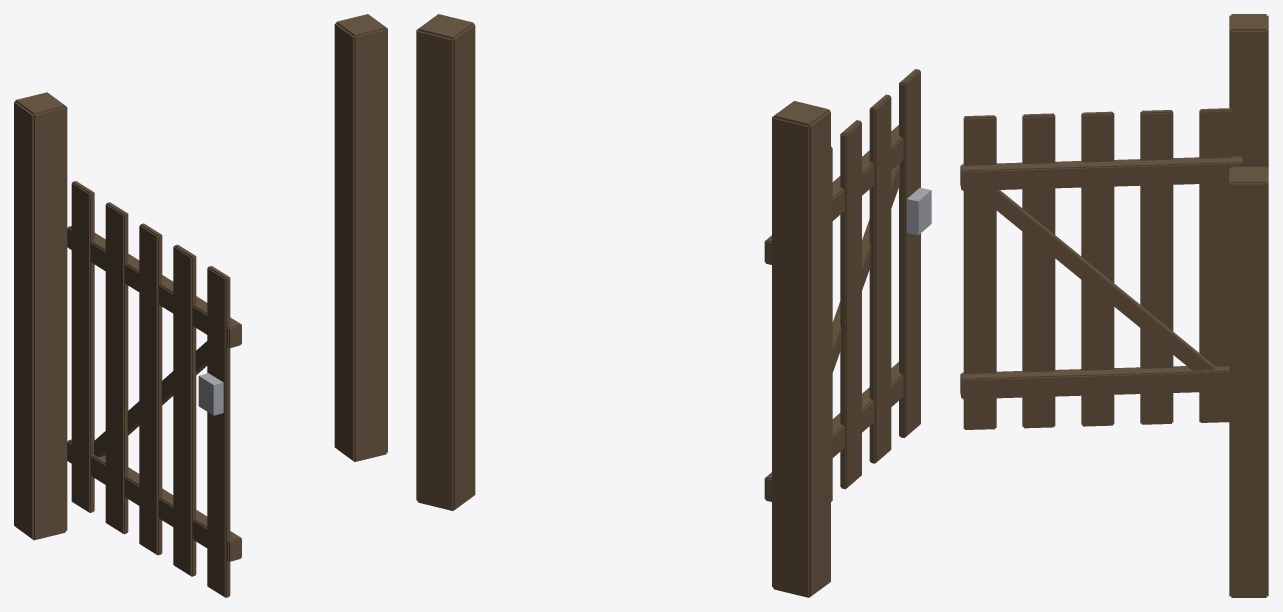
The model's file is gate_picket_open.glb.
3 views of the same model, side by side, from view 1: azimuth 30°, elevation 25°; view 2: azimuth 150°, elevation 25°; view 3: azimuth 270°, elevation 25° (orthographic). The views are drawn at different scales.
Visible parts, largest first — view 1: leaf_mesh, post, post.001; view 2: post.001, post, leaf_mesh; view 3: leaf_mesh, post.001, post.
Part boxes in pixels (bbox=[...]): leaf_mesh: bbox=[67, 181, 241, 597]; post: bbox=[14, 92, 67, 540]; post.001: bbox=[334, 14, 387, 461]; post.001: bbox=[416, 14, 475, 510]; post: bbox=[772, 101, 830, 597]; leaf_mesh: bbox=[764, 69, 931, 501]; leaf_mesh: bbox=[960, 108, 1242, 429]; post.001: bbox=[1229, 166, 1268, 597]; post: bbox=[1229, 14, 1268, 168].
Size of what is drawn, in the model's own units: 1.22 by 1.4 by 0.9393.
